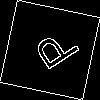P: (24, 24, 82, 78)
